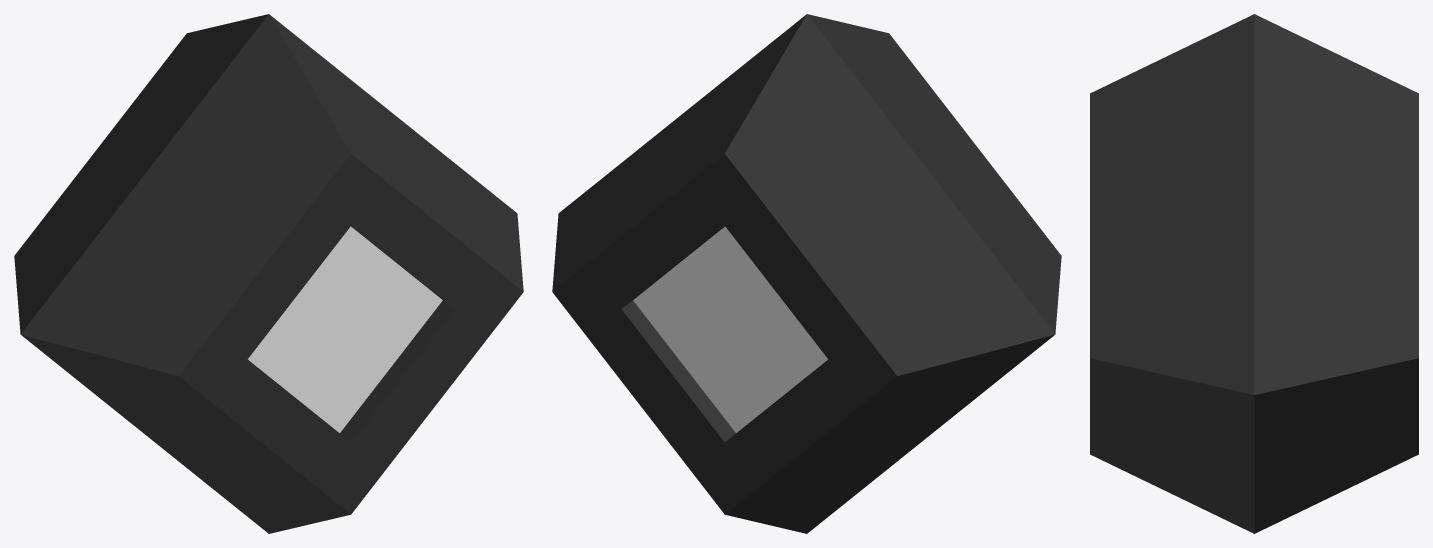
Rendered from Level Assets 2.fbx.
3 views of the same model, side by side, from view 1: azimuth 30°, elevation 25°; view 2: azimuth 150°, elevation 25°; view 3: azimuth 270°, elevation 25° (orthographic).
Visible parts, largest first — view 1: Disparador B Giratorio; view 2: Disparador B Giratorio; view 3: Disparador B Giratorio.
Part boxes in pixels (x1,y1,x2,y2): Disparador B Giratorio: (14, 14, 523, 533); Disparador B Giratorio: (552, 14, 1061, 533); Disparador B Giratorio: (1090, 14, 1418, 533).
Bounding box in the file's own units: 61.09 × 61.09 × 35.
